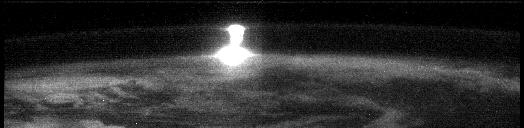positive: (222, 23, 248, 46)
